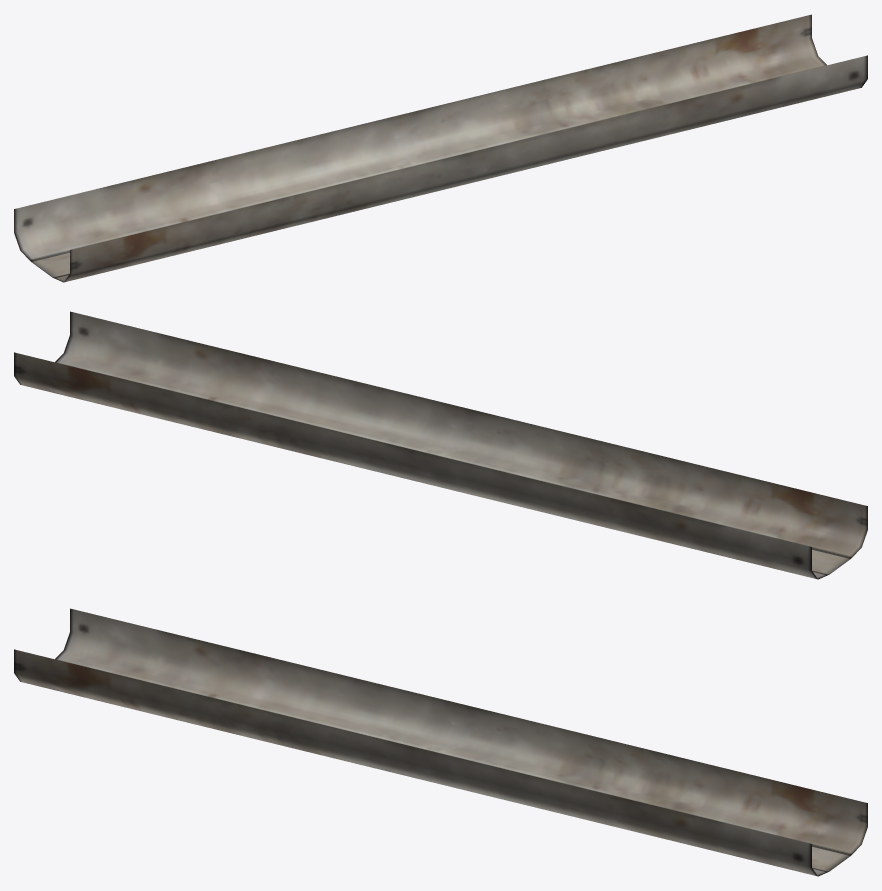
Rendered from lab_ceiling_welder.dae.
The picture shows the model from 3 angles, top to bottom: view 1: azimuth 30°, elevation 25°; view 2: azimuth 150°, elevation 25°; view 3: azimuth 330°, elevation 25°; orthographic projection.
Visible parts, largest first — view 1: lab_ceiling_welder; view 2: lab_ceiling_welder; view 3: lab_ceiling_welder.
Part boxes in pixels (left/top/right/bottom): lab_ceiling_welder: left=14, top=14, right=867, bottom=282; lab_ceiling_welder: left=14, top=311, right=867, bottom=579; lab_ceiling_welder: left=14, top=608, right=867, bottom=876.
Size of the model in its own units: 2 by 0.0965 by 0.2426.
